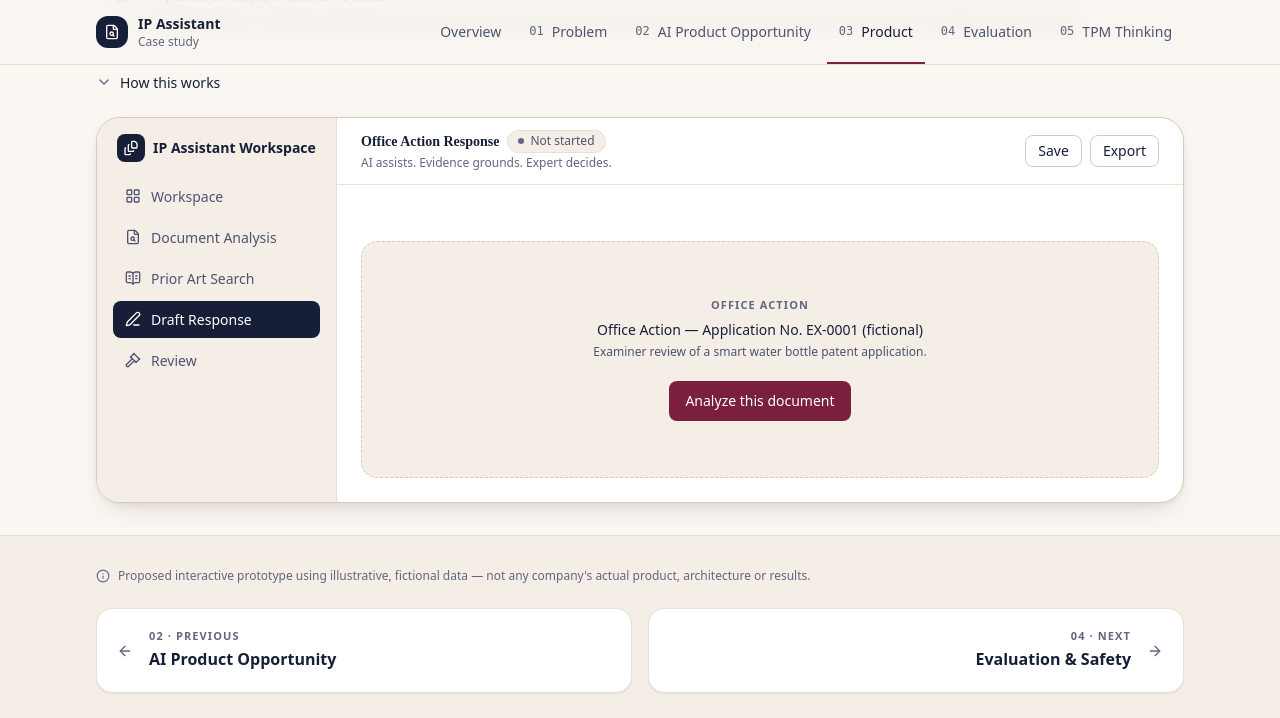
it: Prototype page › rejecting requires a reason and shows a captured-feedback confirmation
(page scrolled)
Click the button "Analyze this document" at (760, 400), box [669,380,850,420]
Wait 3900 ms
(page scrolled)
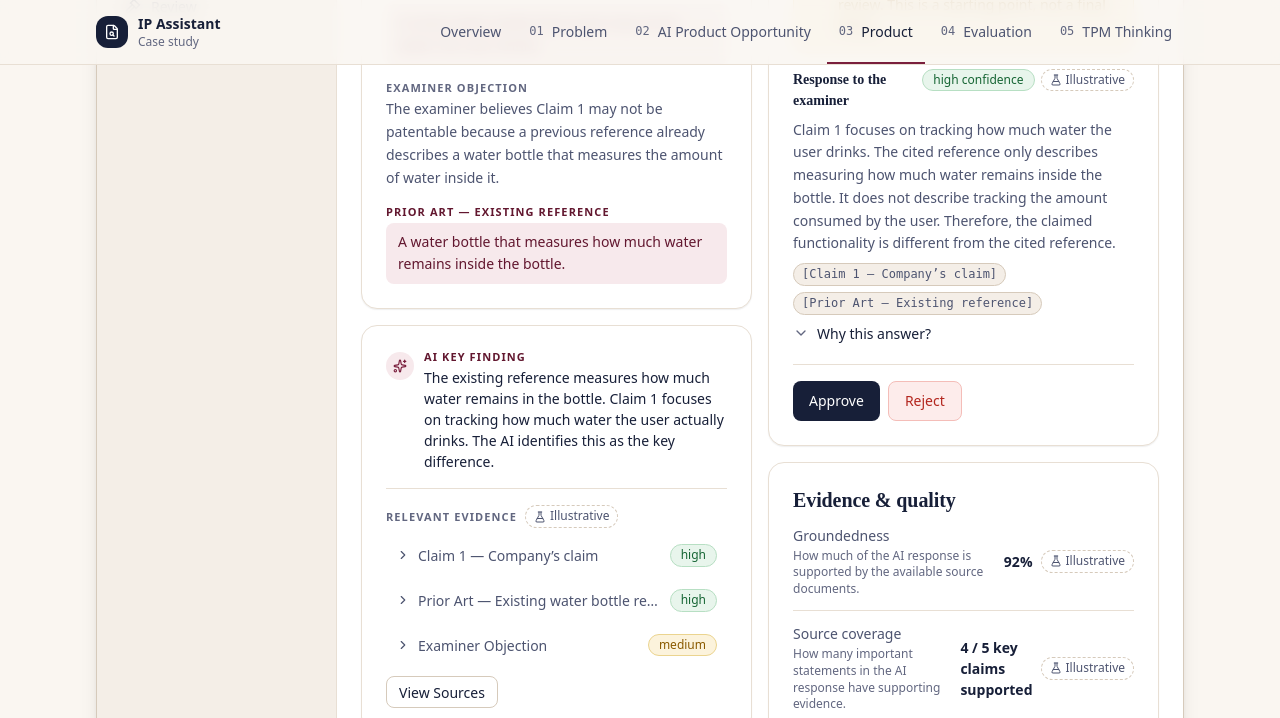
Click the button "Reject" at (925, 401), box [888,381,962,421]
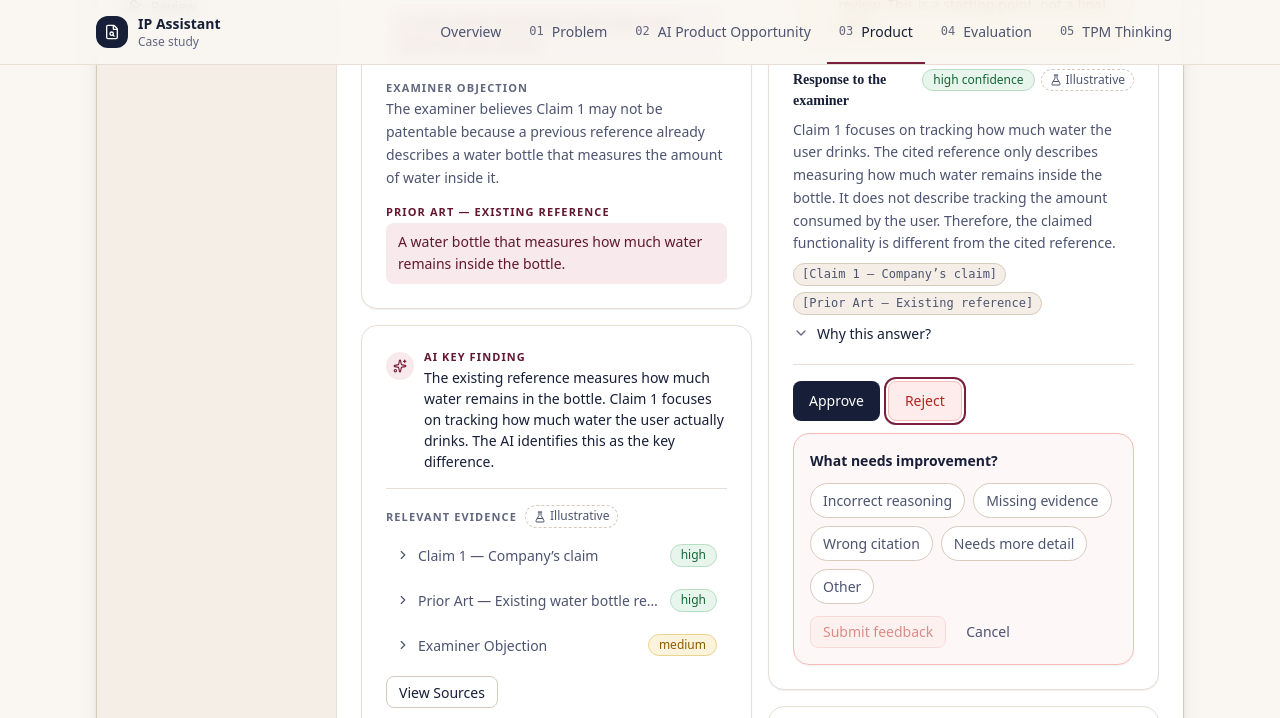
expect the text "What needs improvement?" is shown: met, box [810,451,998,470]
expect the button "Submit feedback" is disabled: met, box [810,616,946,648]
Click the radio button labelled "Missing evidence" at (1042, 500), box [973,483,1112,518]
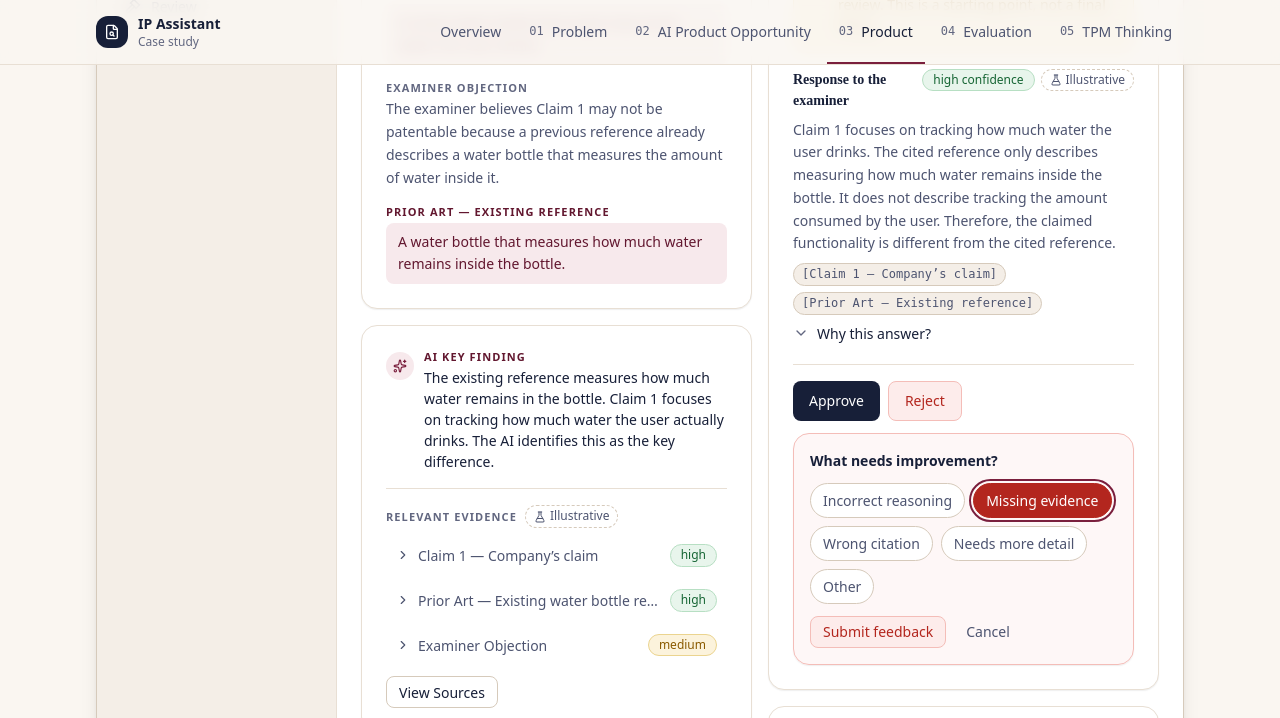
Click the button "Submit feedback" at (878, 632), box [810,616,946,648]
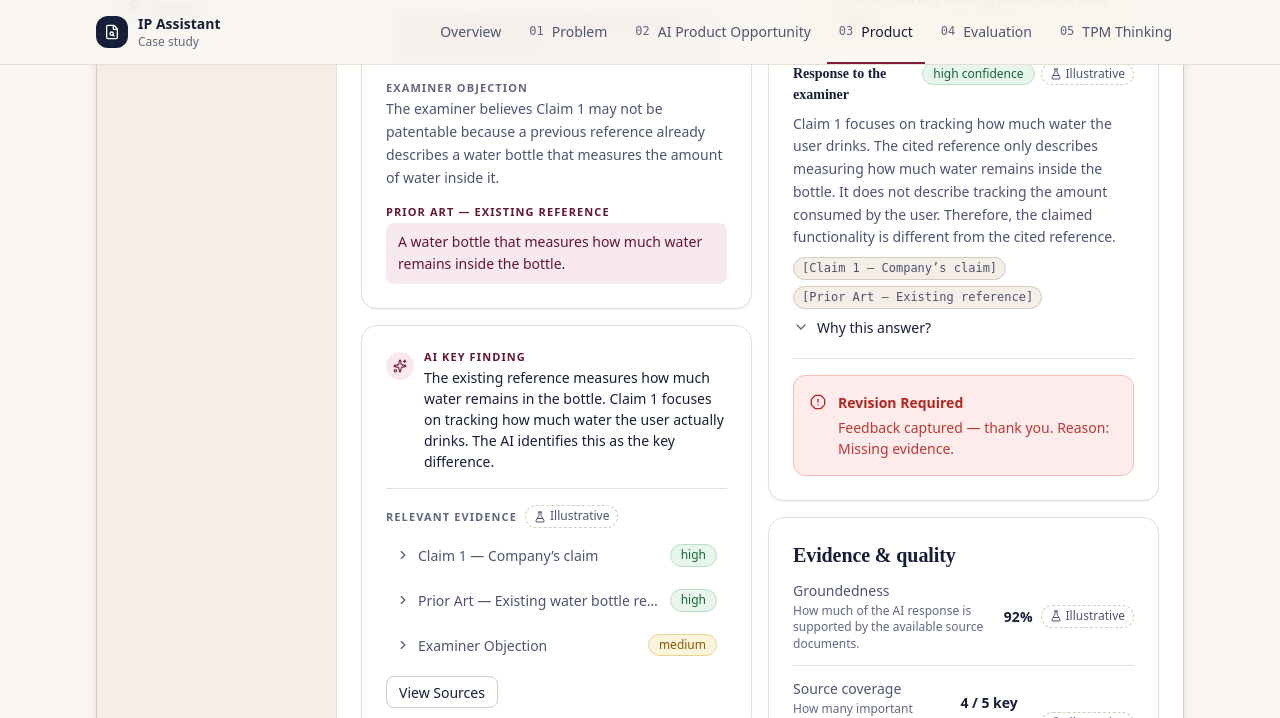
expect the text "What needs improvement?" is gone: met
